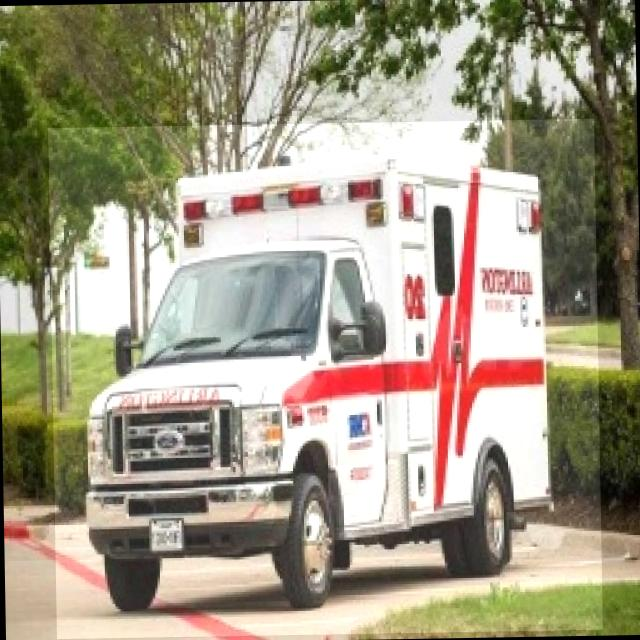ambulance: (48, 118, 602, 639)
